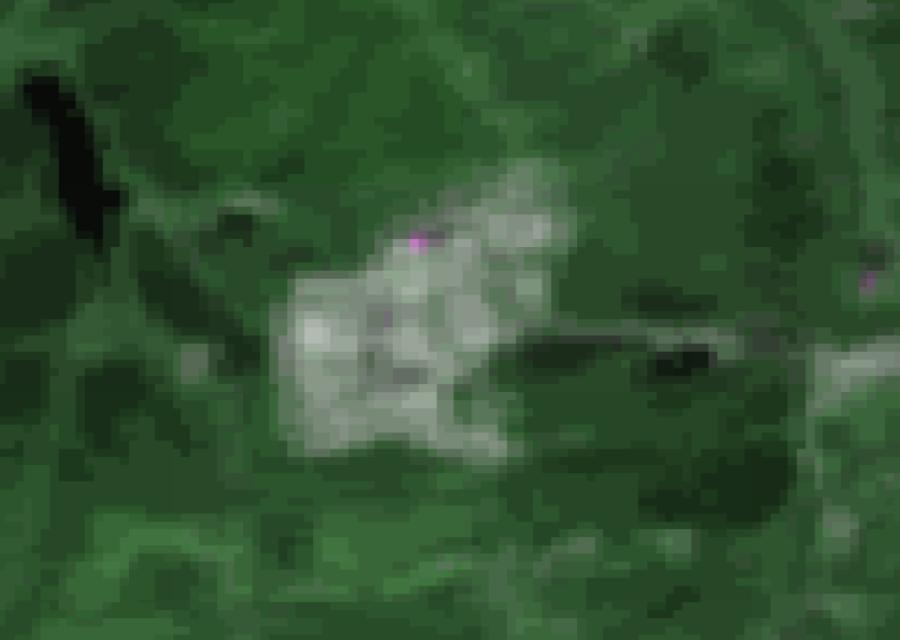Potential Lime Manufacturing Facility: (409, 233, 427, 250)
